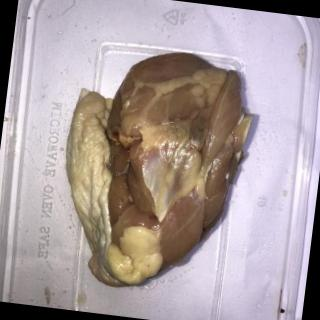Ayam: (50, 39, 262, 303)
